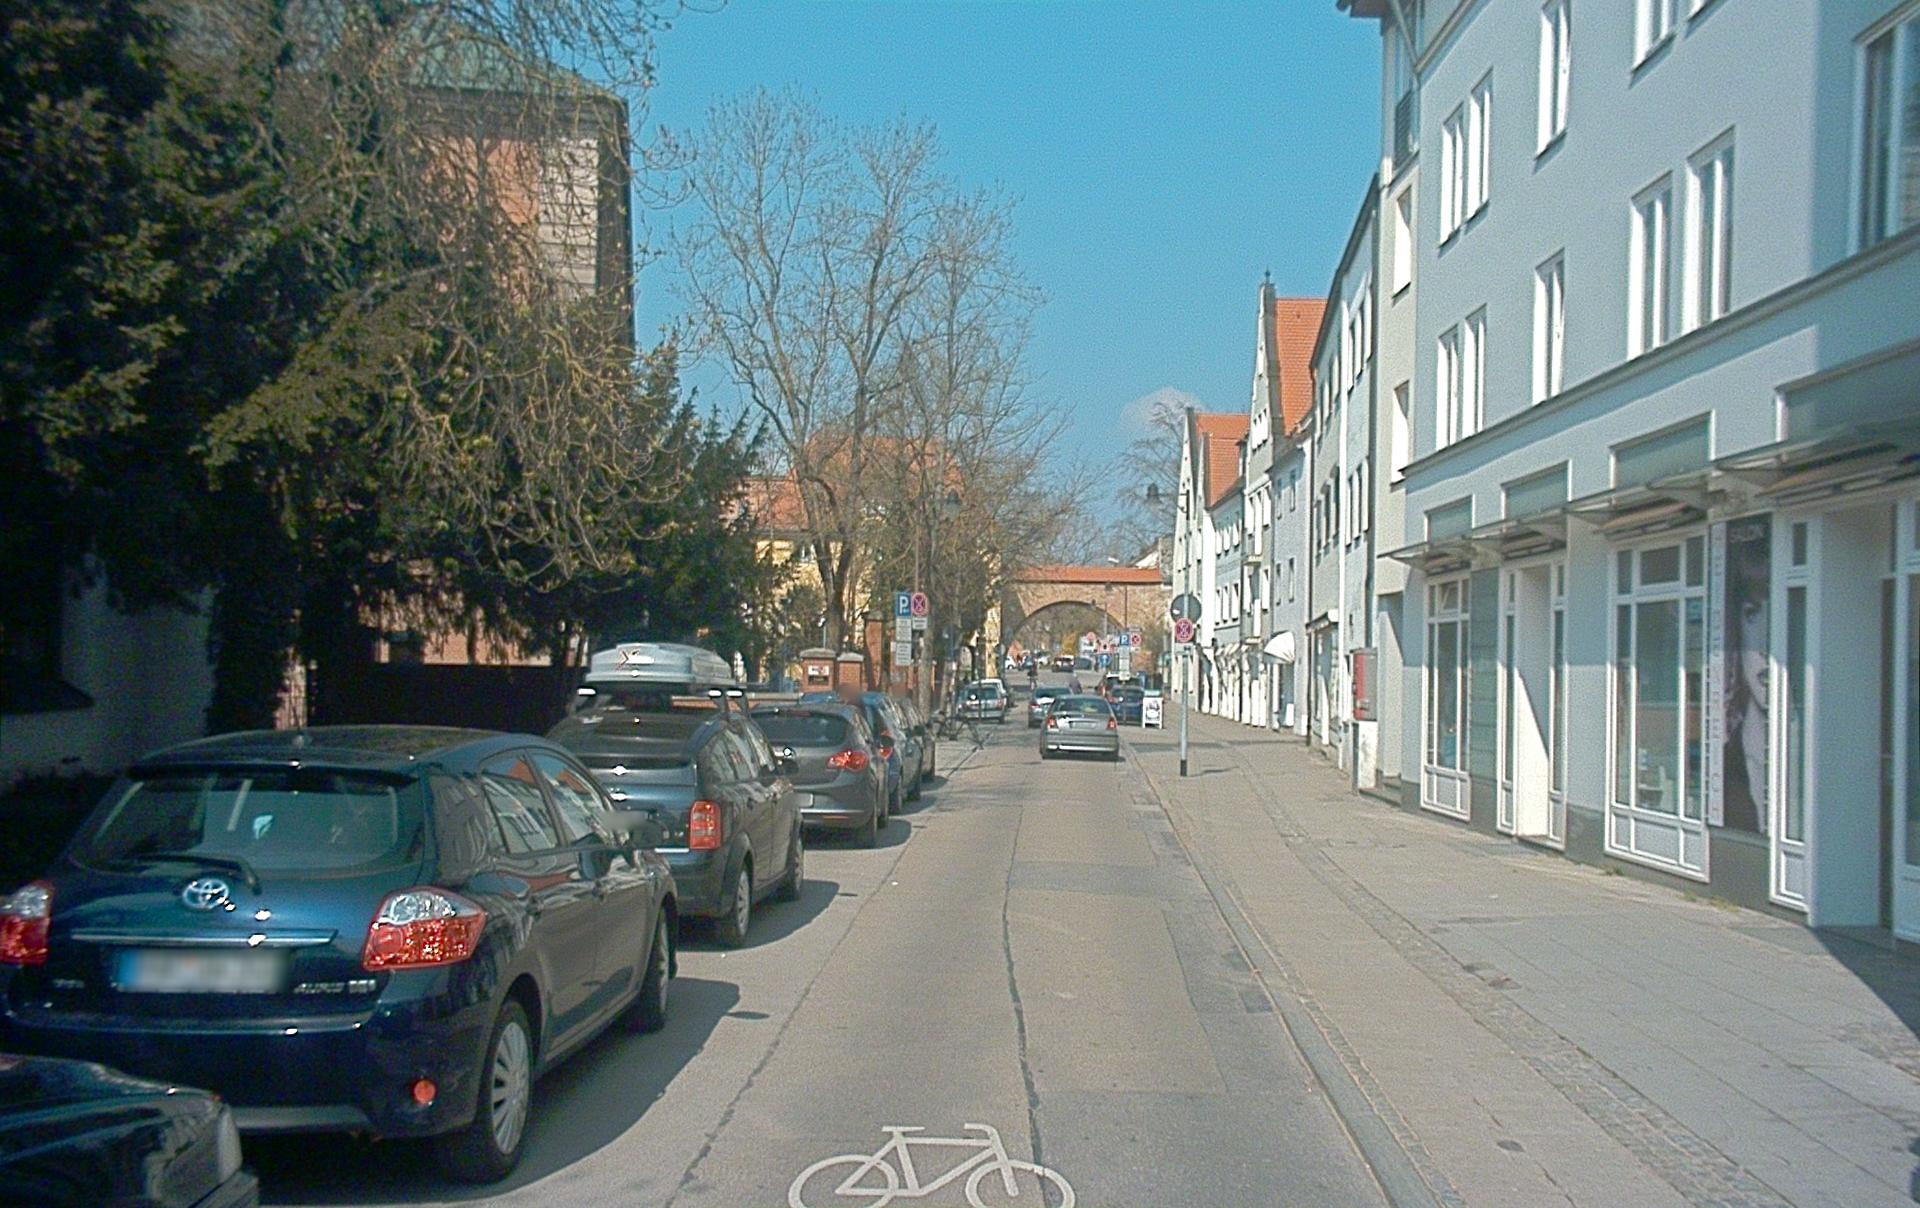car: (1, 722, 680, 1183), (541, 681, 806, 948), (0, 1051, 260, 1207), (744, 700, 889, 846), (799, 689, 925, 814), (572, 642, 742, 713), (1039, 694, 1119, 760), (957, 679, 1009, 722), (1028, 683, 1073, 728)
